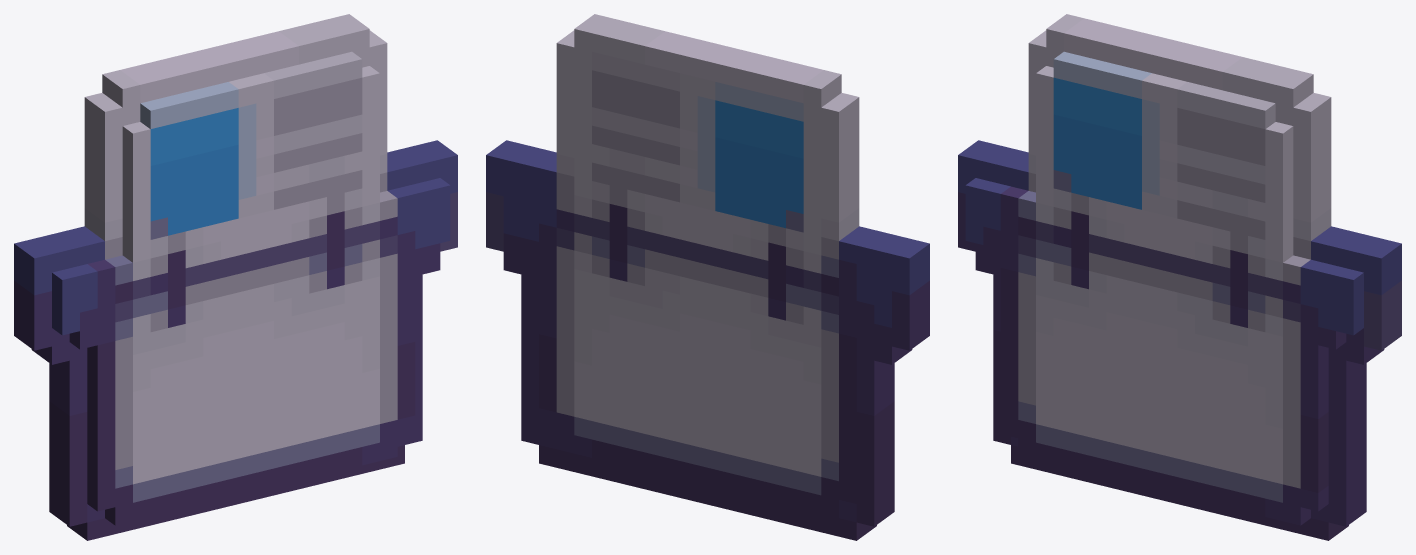
File: card-index.glb
3 views of the same model, side by side, from view 1: azimuth 30°, elevation 25°; view 2: azimuth 150°, elevation 25°; view 3: azimuth 330°, elevation 25° (orthographic).
Parts seen in each view (by area): view 1: prop; view 2: prop; view 3: prop.
Boxes of the visible parts, <box> form: prop: <box>14,14,457,540</box>; prop: <box>486,14,929,540</box>; prop: <box>958,14,1401,540</box>.
Size of the model in its own units: 16 by 16 by 2.
